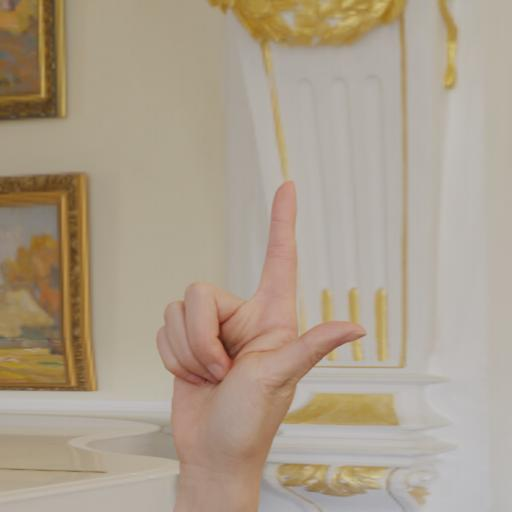L: (147, 172, 376, 508)
